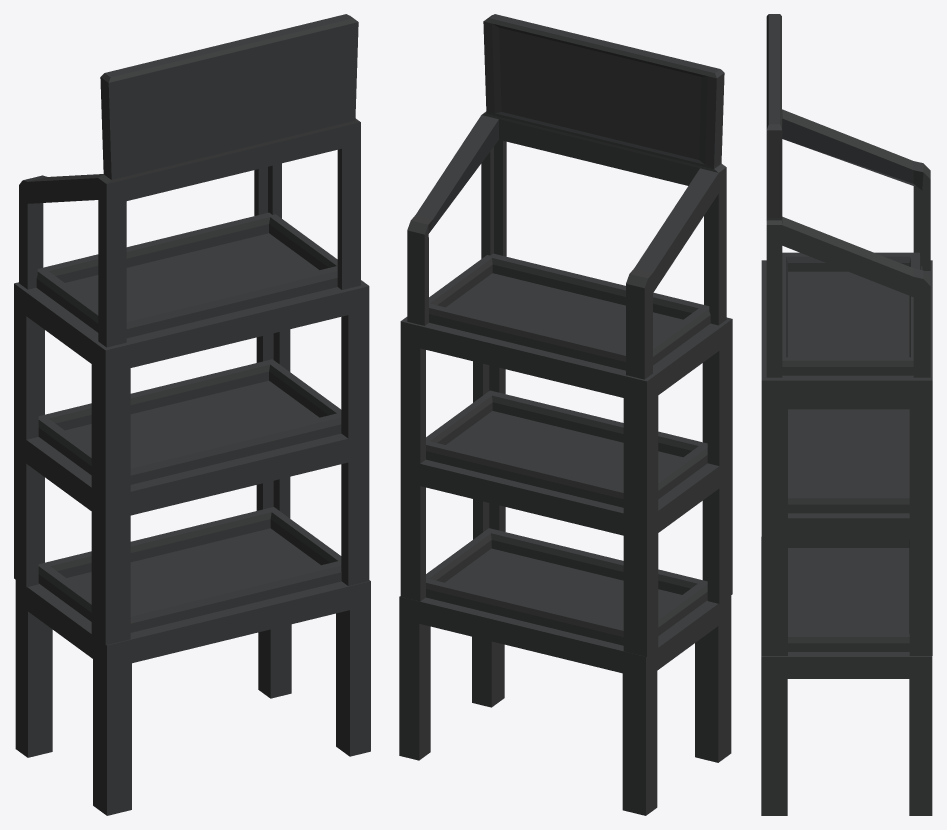
Rendered from CandyShelf.fbx.
The picture shows the model from 3 angles, left to right: view 1: azimuth 30°, elevation 25°; view 2: azimuth 150°, elevation 25°; view 3: azimuth 270°, elevation 25°; orthographic projection. The views are drawn at different scales.
Visible parts, largest first — view 1: BottomShelf, TopShelf, Shelf, Shelf.001; view 2: TopShelf, BottomShelf, Shelf, Shelf.001; view 3: Shelf, BottomShelf, Shelf.001, TopShelf.
Boxes of the visible parts, x1,y1,x2,y2 form: BottomShelf: (15,507,370,815); TopShelf: (19,14,360,347); Shelf: (14,212,369,497); Shelf.001: (14,359,369,645); TopShelf: (407,14,726,379); BottomShelf: (399,528,731,815); Shelf: (400,253,732,518); Shelf.001: (400,390,732,656); Shelf: (761,252,932,518); BottomShelf: (761,537,932,815); Shelf.001: (761,402,932,655); TopShelf: (766,14,930,377).
Bounding box in the file's own units: 344 × 909 × 206.
1 material, 1 textured.
